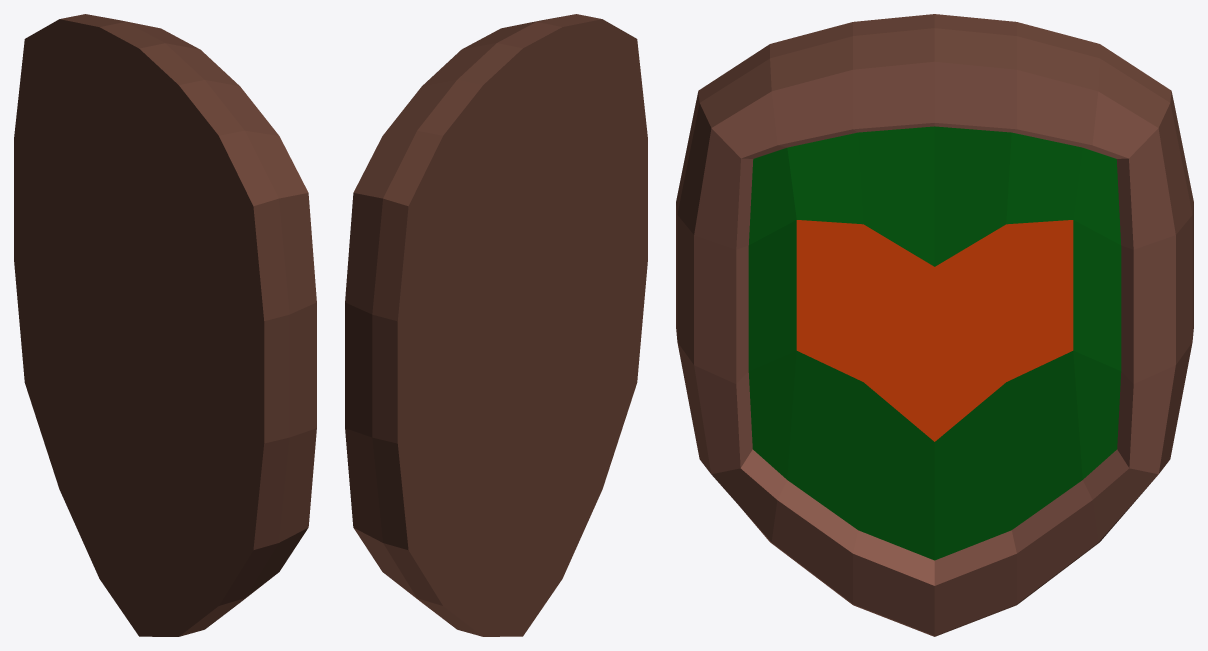
The model's file is Shield2.fbx.
The picture shows the model from 3 angles, left to right: view 1: azimuth 30°, elevation 25°; view 2: azimuth 150°, elevation 25°; view 3: azimuth 270°, elevation 25°; orthographic projection. The views are drawn at different scales.
Parts seen in each view (by area): view 1: Shield2; view 2: Shield2; view 3: Shield2.
Boxes of the visible parts, x1,y1,x2,y2 form: Shield2: (14,14,316,636); Shield2: (345,14,647,636); Shield2: (676,14,1193,636).
Size of the model in its own units: 4.84 by 35.92 by 27.64.
